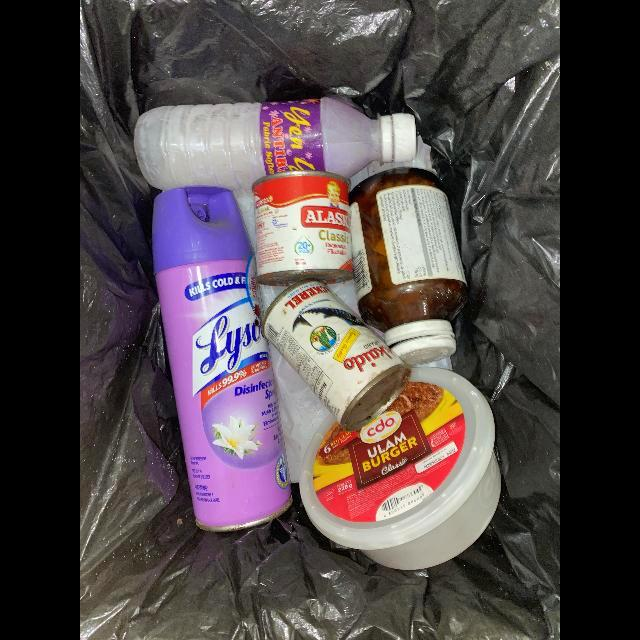aluminum: (152, 187, 292, 533), (262, 282, 412, 432), (252, 171, 355, 288)
glass_bottle: (349, 167, 468, 366)
plastic_bottle: (133, 98, 418, 191)
plastic_container: (299, 367, 501, 571)
